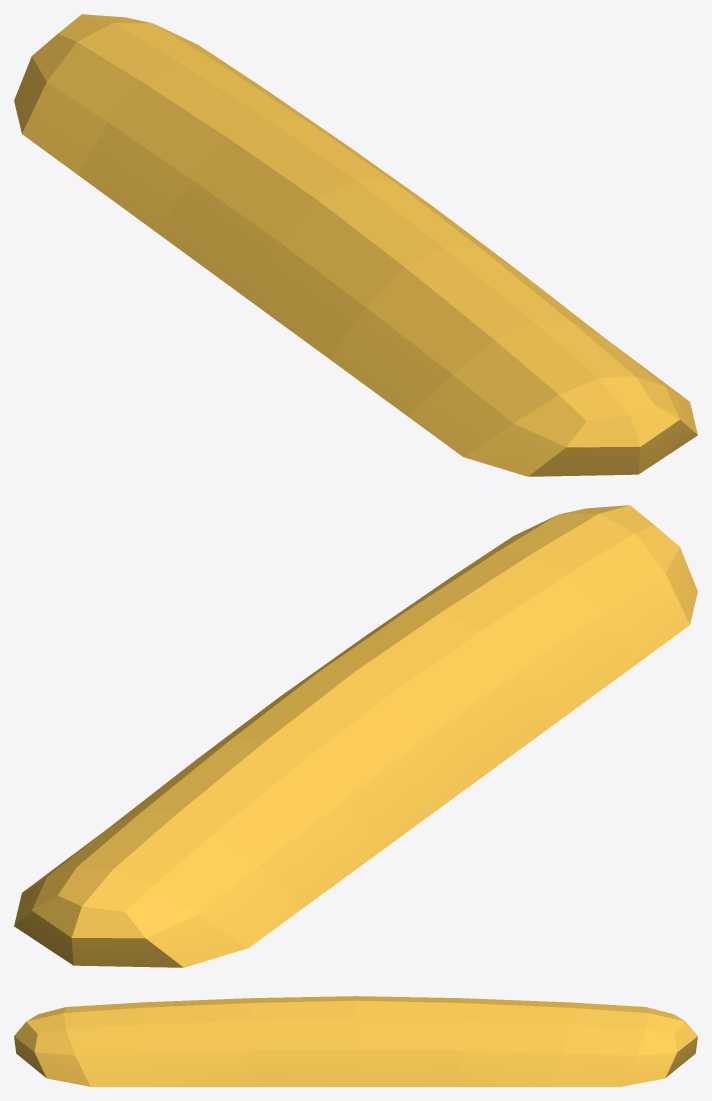
Rendered from hay_003.glb.
The picture shows the model from 3 angles, top to bottom: view 1: azimuth 30°, elevation 25°; view 2: azimuth 150°, elevation 25°; view 3: azimuth 270°, elevation 25°; orthographic projection. The views are drawn at different scales.
Visible parts, largest first — view 1: hay_003; view 2: hay_003; view 3: hay_003.
Part boxes in pixels (x1,y1,x2,y2): hay_003: (14, 14, 697, 476); hay_003: (14, 505, 697, 967); hay_003: (14, 996, 697, 1086).
Size of the model in its own units: 8.64 by 3.2 by 37.52.
1 material, 1 textured.
